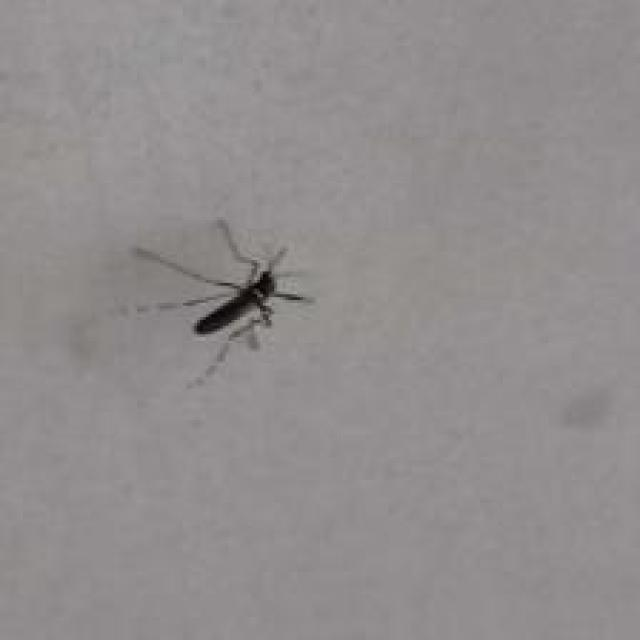Aedes albopictus: (130, 216, 316, 387)
